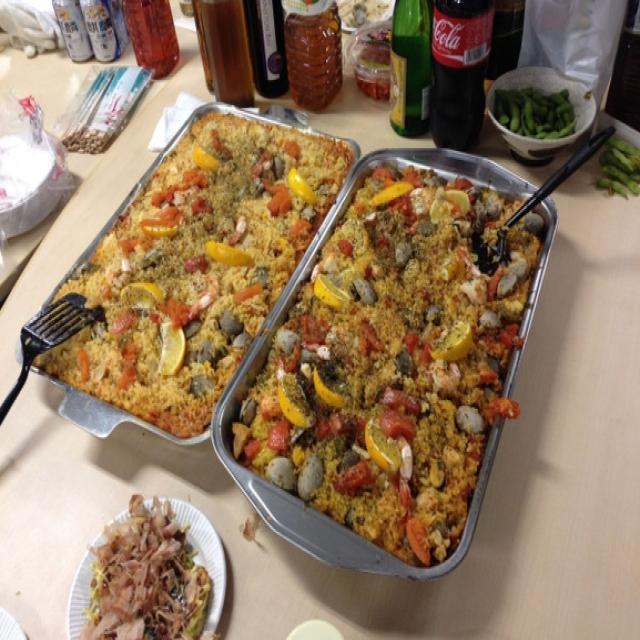汤锅炖物: (25, 0, 640, 640)
